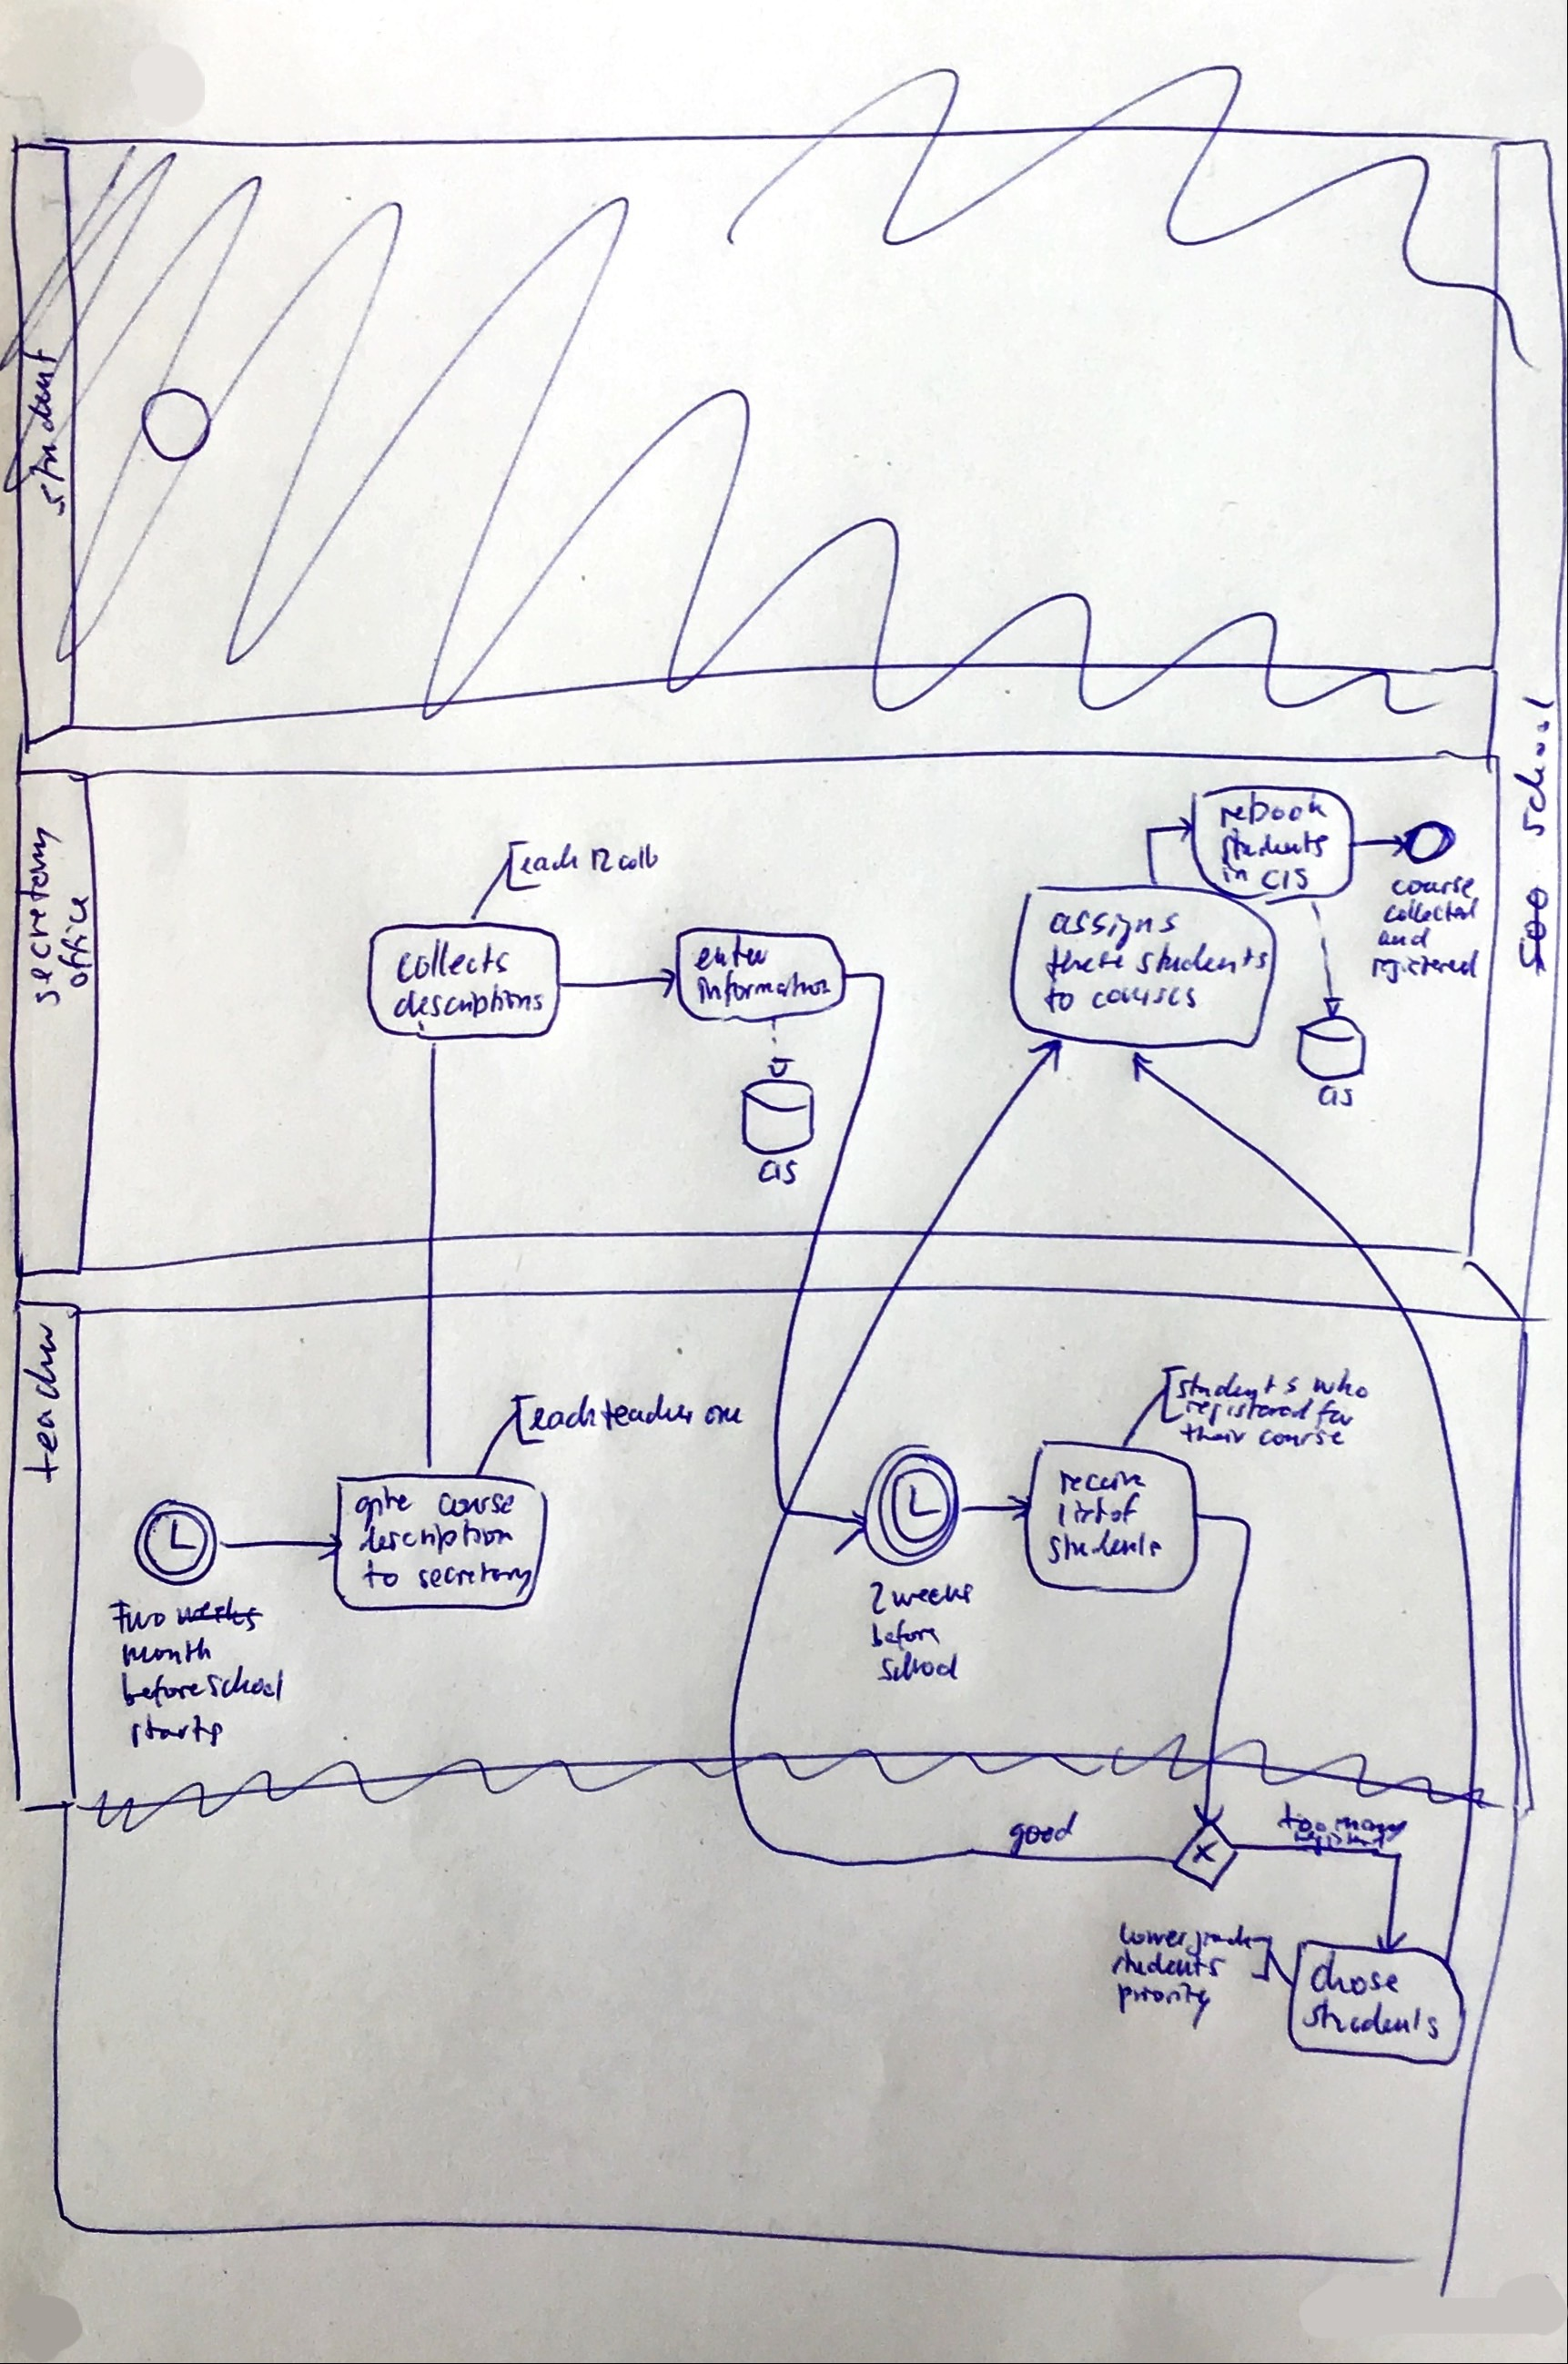12: (589, 845, 616, 875)
2: (863, 1578, 886, 1621)
CIS: (1260, 867, 1312, 892)
Two: (107, 1598, 171, 1636)
and: (1375, 928, 1435, 949)
apte: (351, 1486, 412, 1531)
as: (1316, 1079, 1356, 1113), (757, 1157, 802, 1185)
assigns: (1047, 908, 1181, 950)
before: (119, 1669, 208, 1708), (865, 1621, 942, 1655)
chose: (1310, 1948, 1410, 1993)
coll: (615, 837, 663, 871)
collected: (1382, 898, 1483, 927)
collects: (391, 941, 511, 987)
course: (435, 1489, 516, 1520), (1256, 1426, 1351, 1450), (1390, 873, 1480, 898)
courses: (1087, 982, 1201, 1014)
description: (359, 1517, 517, 1555)
descriptions: (391, 980, 548, 1020)
each: (528, 1394, 599, 1432), (514, 851, 588, 880)
enter: (693, 938, 774, 972)
for: (1314, 1395, 1358, 1429)
good: (1007, 1810, 1084, 1856)
grade: (1183, 1923, 1257, 1956)
in: (1219, 867, 1254, 884)
information: (692, 969, 833, 1009)
list: (1051, 1497, 1110, 1527)
lower: (1117, 1917, 1191, 1947)
many: (1333, 1811, 1409, 1831)
month: (118, 1634, 216, 1669)
of: (1108, 1493, 1145, 1524)
office: (58, 892, 95, 990)
one: (703, 1401, 746, 1427)
priority: (1113, 1981, 1217, 2032)
rebook: (1215, 796, 1324, 832)
receive: (1056, 1470, 1149, 1497)
registered: (1184, 1387, 1316, 1423), (1370, 949, 1483, 984), (1290, 1831, 1392, 1849)
school: (1517, 689, 1556, 836), (205, 1664, 287, 1703), (875, 1650, 962, 1685)
secretary: (18, 823, 62, 1007), (414, 1562, 536, 1596)
starts: (122, 1717, 225, 1752)
students: (1304, 1986, 1449, 2033), (1044, 1523, 1167, 1564), (1134, 939, 1270, 976), (1217, 826, 1334, 867), (1175, 1371, 1303, 1403), (1109, 1945, 1228, 1976)
teacher: (21, 1322, 63, 1484), (599, 1391, 699, 1433)
their: (1180, 1423, 1249, 1446)
there: (1045, 945, 1126, 981)
to: (359, 1559, 401, 1594), (1041, 984, 1078, 1017)
too: (1280, 1801, 1331, 1833)
weeks: (889, 1583, 977, 1610)
who: (1319, 1359, 1377, 1393)
